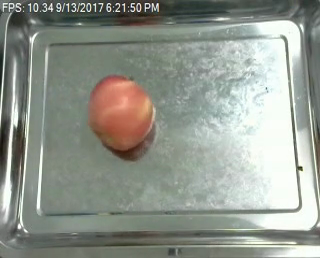Apple: (87, 70, 155, 158)
